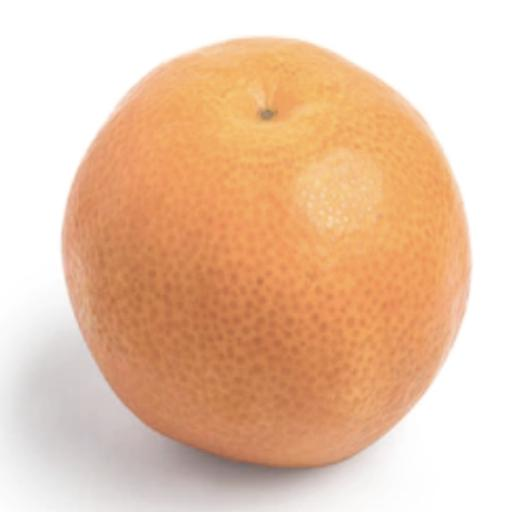orange: (62, 38, 468, 466)
